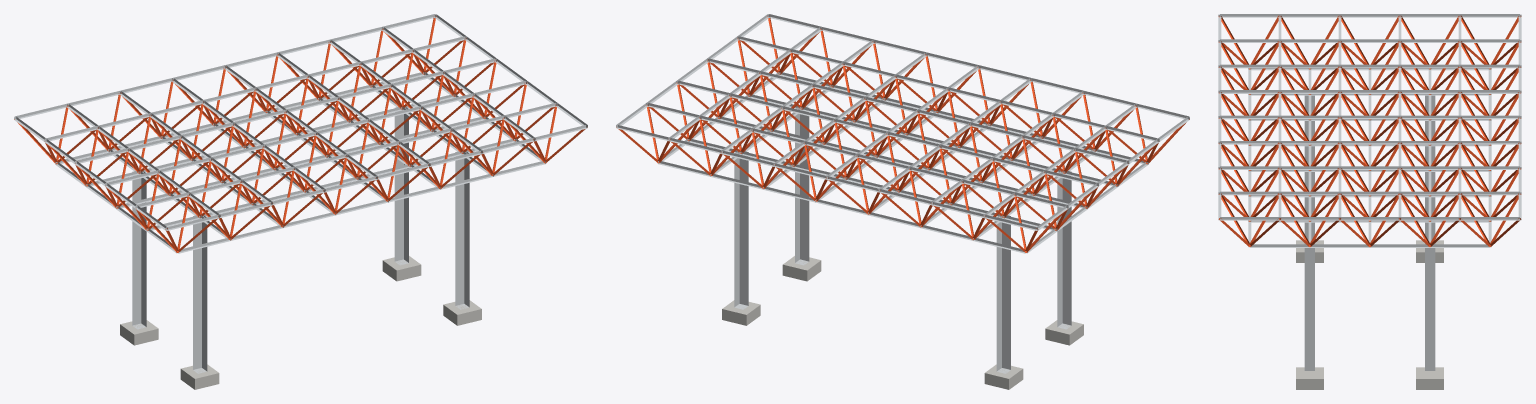
Rendered from space-frame-canopy.glb.
The picture shows the model from 3 angles, left to right: view 1: azimuth 30°, elevation 25°; view 2: azimuth 150°, elevation 25°; view 3: azimuth 270°, elevation 25°; orthographic projection.
Parts seen in each view (by area): view 1: space-frame-canopy; view 2: space-frame-canopy; view 3: space-frame-canopy.
Part boxes in pixels (x1=…): space-frame-canopy: x1=14, y1=14, x2=587, y2=389; space-frame-canopy: x1=616, y1=14, x2=1189, y2=389; space-frame-canopy: x1=1218, y1=14, x2=1521, y2=389.
Size of the model in its own units: 12.07 by 5.64 by 7.57.
